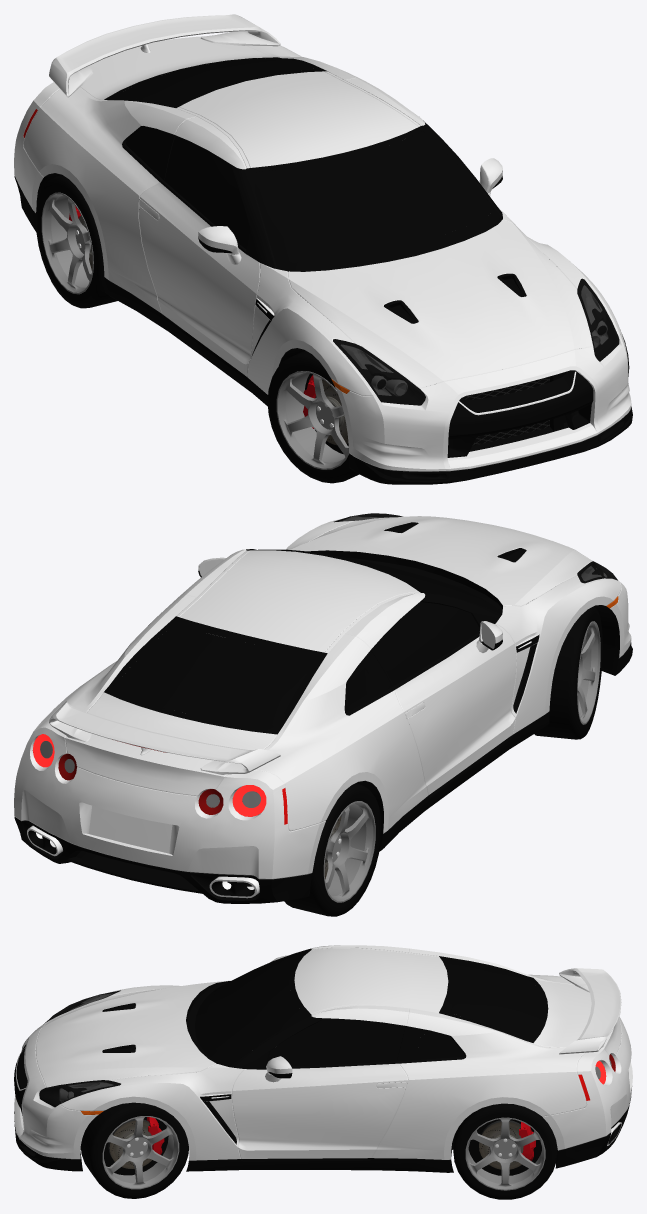
Rendered from nissan-gr.glb.
3 views of the same model, one above another, from view 1: azimuth 30°, elevation 25°; view 2: azimuth 150°, elevation 25°; view 3: azimuth 270°, elevation 25° (orthographic). The views are drawn at different scales.
Visible parts, largest first — view 1: mesh.001_paint_0, mesh.011_glass_0, mesh.004_bumpa_0, mesh.003_mlack_0, wheel.002_rim_0, mesh.010_glass_l_0, wheel.001_rim_0, wheel.001_tire.001_0, wheel.002_tire.001_0, mesh.007_black_0, mesh.008_bhrome_0, mesh.015_grill_0; view 2: mesh.001_paint_0, mesh.011_glass_0, mesh.004_bumpa_0, mesh.003_mlack_0, wheel.001_rim_0, wheel.002_tire.001_0, wheel.001_tire.001_0, wheel.002_rim_0, mesh.008_bhrome_0, mesh.014_red_0, mesh.010_glass_l_0, mesh.012_brake_0 (+1 smaller); view 3: mesh.001_paint_0, mesh.011_glass_0, mesh.004_bumpa_0, wheel, mesh.003_mlack_0, wheel.001_tire.001_0, wheel.001_rim_0, mesh.010_glass_l_0, wheel.001_disc_0, mesh.007_black_0, mesh.008_bhrome_0.
Boxes of the visible parts, x1=… form: mesh.001_paint_0: x1=14, y1=14, x2=631, y2=471; mesh.011_glass_0: x1=113, y1=58, x2=491, y2=262; mesh.004_bumpa_0: x1=14, y1=120, x2=632, y2=484; mesh.003_mlack_0: x1=36, y1=57, x2=612, y2=451; wheel.002_rim_0: x1=276, y1=371, x2=349, y2=469; mesh.010_glass_l_0: x1=333, y1=278, x2=619, y2=405; wheel.001_rim_0: x1=41, y1=192, x2=93, y2=294; wheel.001_tire.001_0: x1=35, y1=175, x2=117, y2=308; wheel.002_tire.001_0: x1=267, y1=350, x2=358, y2=483; mesh.007_black_0: x1=333, y1=279, x2=618, y2=405; mesh.008_bhrome_0: x1=256, y1=285, x2=607, y2=395; mesh.015_grill_0: x1=465, y1=376, x2=549, y2=445; mesh.001_paint_0: x1=14, y1=516, x2=631, y2=879; mesh.011_glass_0: x1=113, y1=549, x2=491, y2=728; mesh.004_bumpa_0: x1=14, y1=522, x2=632, y2=903; mesh.003_mlack_0: x1=27, y1=550, x2=619, y2=897; wheel.001_rim_0: x1=323, y1=801, x2=375, y2=902; wheel.002_tire.001_0: x1=534, y1=606, x2=602, y2=739; wheel.001_tire.001_0: x1=284, y1=783, x2=381, y2=916; wheel.002_rim_0: x1=577, y1=621, x2=600, y2=724; mesh.008_bhrome_0: x1=27, y1=516, x2=606, y2=898; mesh.014_red_0: x1=32, y1=734, x2=266, y2=816; mesh.010_glass_l_0: x1=333, y1=513, x2=617, y2=583; mesh.012_brake_0: x1=58, y1=741, x2=223, y2=814; mesh.001_paint_0: x1=14, y1=945, x2=632, y2=1160; mesh.011_glass_0: x1=206, y1=952, x2=543, y2=1066; mesh.004_bumpa_0: x1=14, y1=948, x2=631, y2=1172; wheel: x1=81, y1=1102, x2=188, y2=1198; mesh.003_mlack_0: x1=29, y1=949, x2=621, y2=1168; wheel.001_tire.001_0: x1=453, y1=1103, x2=557, y2=1199; wheel.001_rim_0: x1=465, y1=1117, x2=545, y2=1190; mesh.010_glass_l_0: x1=39, y1=990, x2=120, y2=1107; wheel.001_disc_0: x1=479, y1=1120, x2=523, y2=1169; mesh.007_black_0: x1=39, y1=991, x2=120, y2=1106; mesh.008_bhrome_0: x1=59, y1=993, x2=621, y2=1145.
Size of the model in its own units: 0.0199 by 0.0141 by 0.0451.
Materials: 21 (2 with a texture image).
